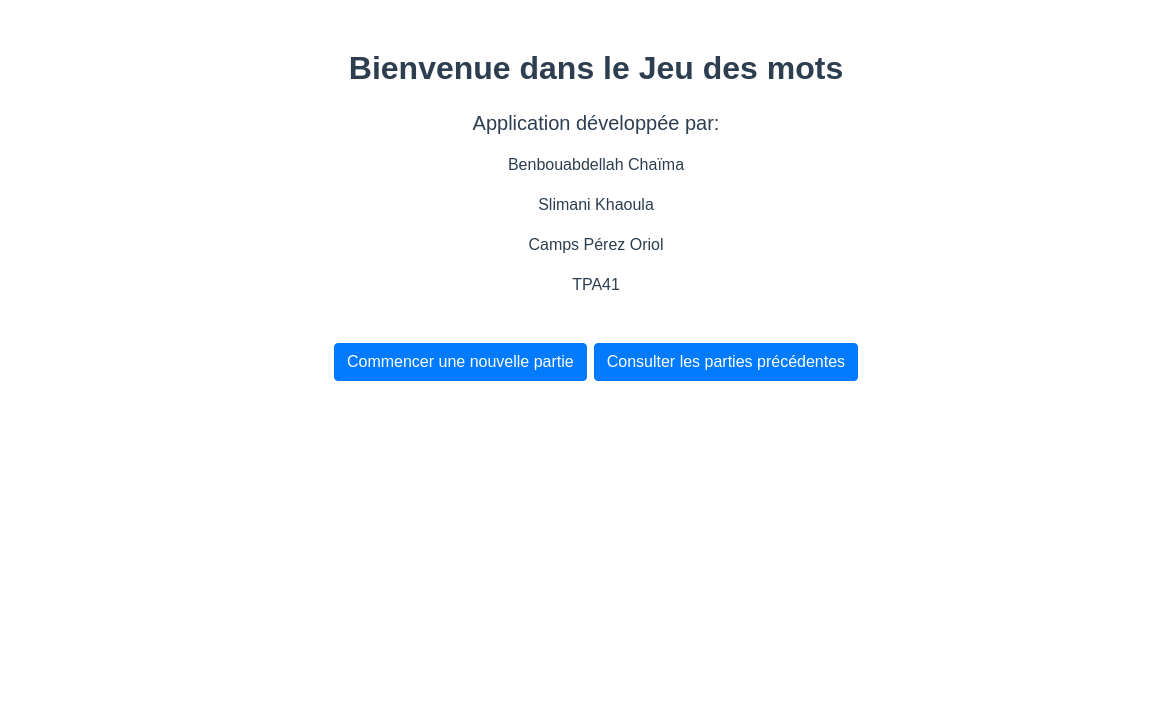
Make sure our todo list app is working well › Vérifier que lorsque vous cliquez sur le bouton “lancer une partie”, l’affichage propose bien à l’utilisateur de saisir un mot
What coordinates should you click on to do the following:
click the link with id "new-game"
I would click on:
 (461, 362)
Its box is [334,343,587,381].
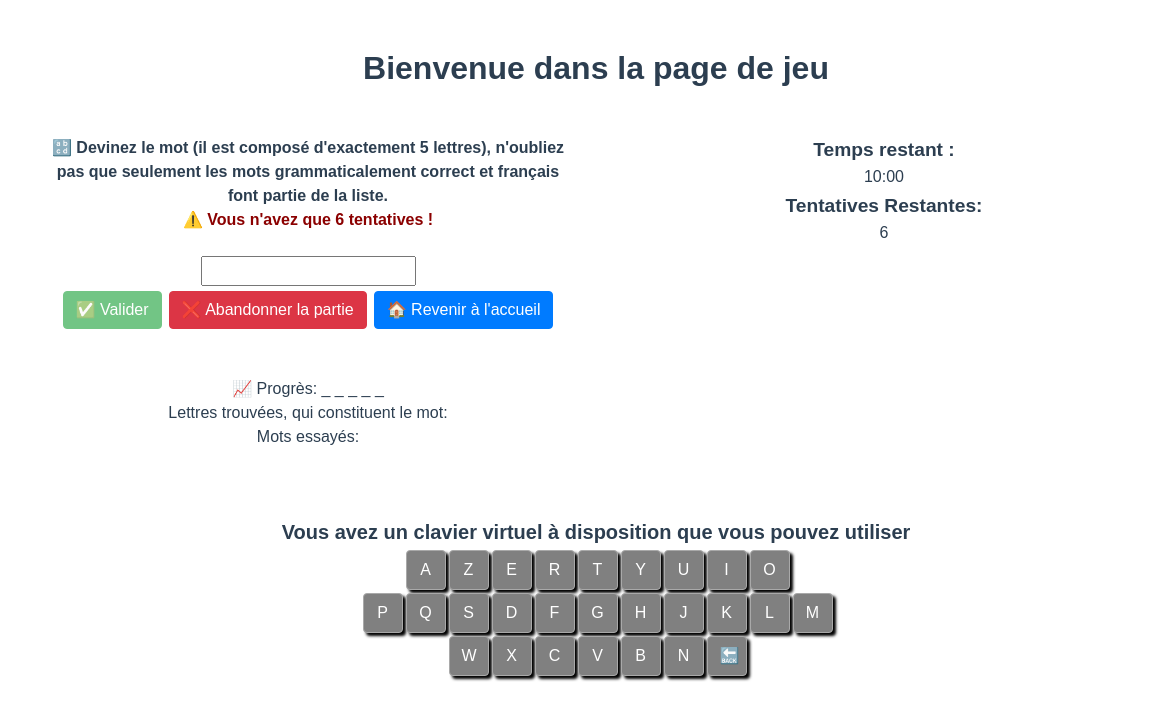
Check: the field with id "new-word" is shown, box [201,256,416,286]
